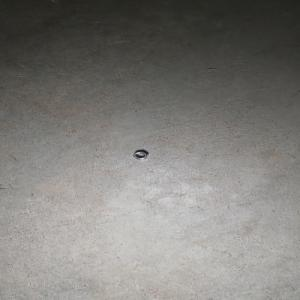Nut: (132, 150, 148, 160)
